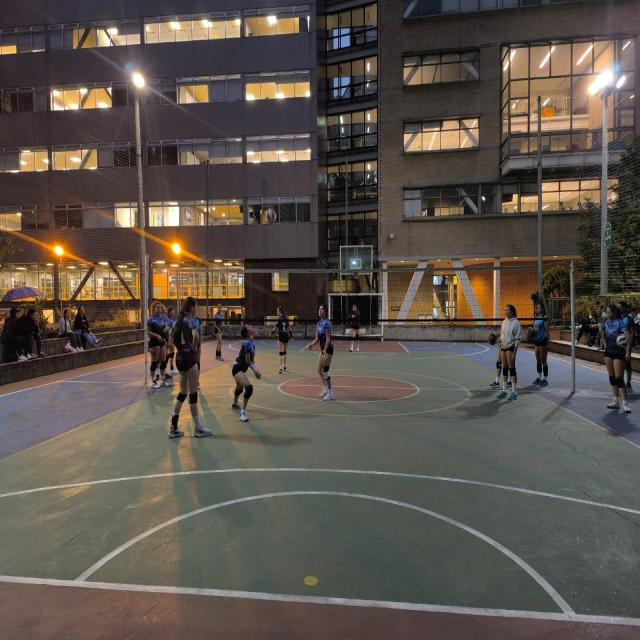volleyball: (265, 207, 277, 224), (616, 333, 627, 348), (488, 332, 497, 345)
